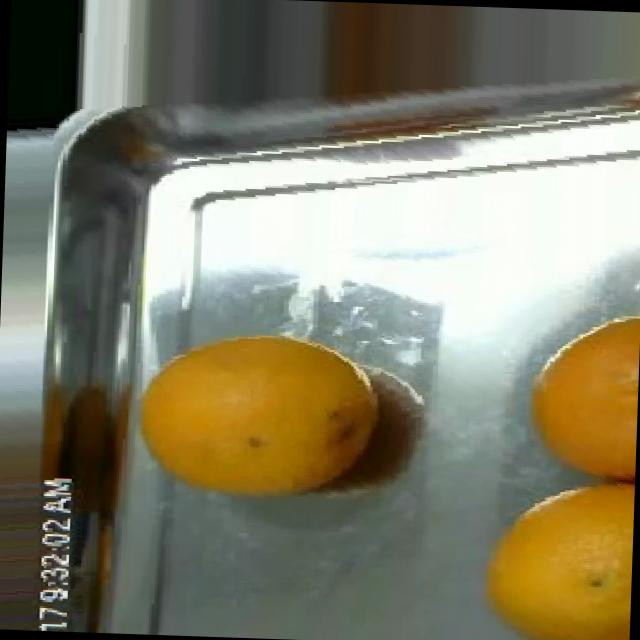Fruit: (125, 310, 332, 514), (6, 0, 93, 144)
